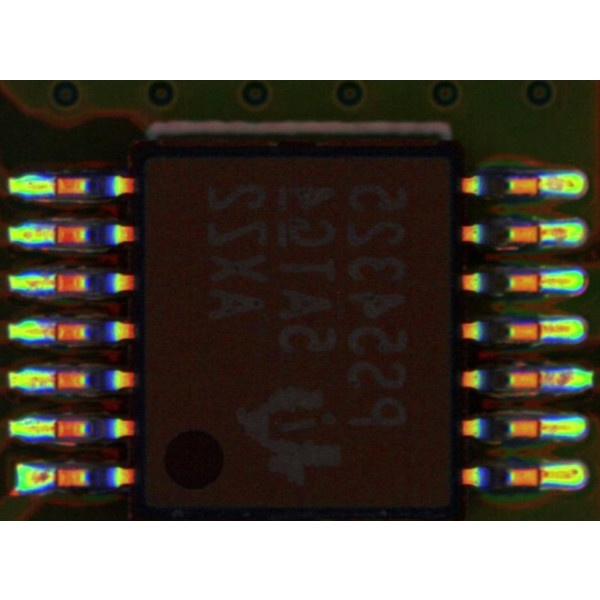Bad_podu: (522, 227, 558, 240), (524, 324, 561, 336), (522, 277, 561, 288), (523, 375, 558, 387), (519, 424, 559, 434), (39, 374, 69, 387), (521, 471, 557, 481), (39, 327, 69, 339), (41, 423, 69, 435), (39, 278, 69, 289)
